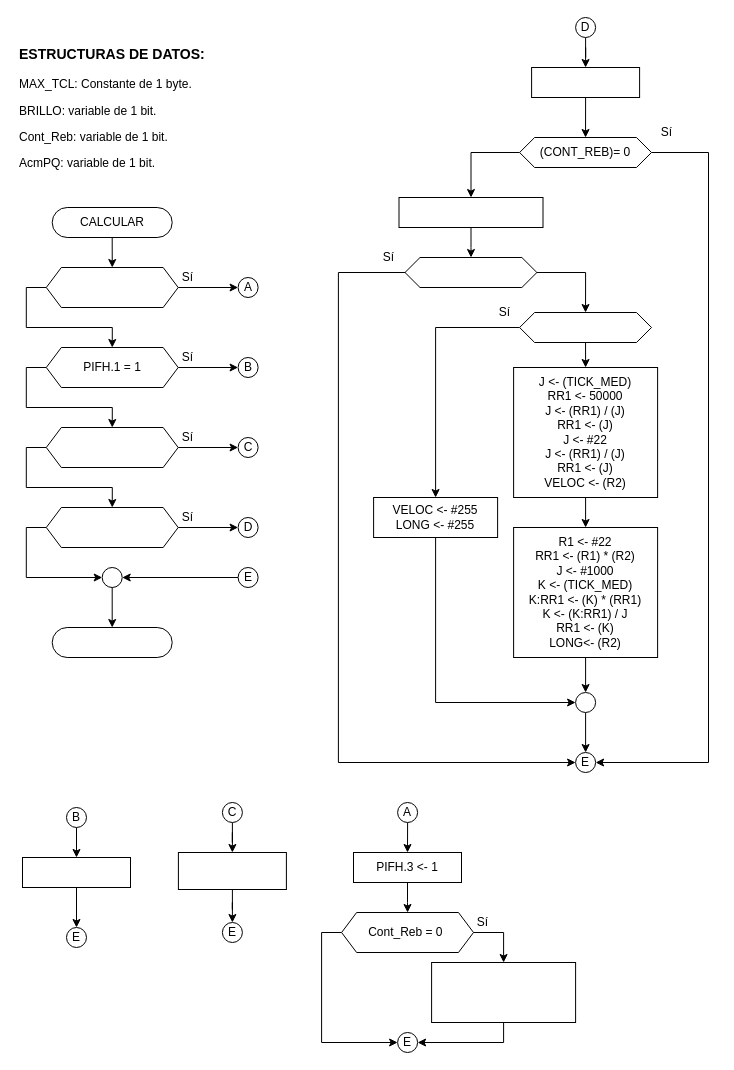
This 734x1070 diagram has some shape labels left out. The shapes that lost their labels are listed below. From the top down, each one's centre as x and y in pixels, then its label:
(x=585, y=82): PIFH.0 <- 1
(x=470, y=212): CONT_REB <- 100
(x=111, y=287): PIFH.0 = 1
(x=470, y=272): (TICK_MED)= 0
(x=585, y=327): (TICK_MED) < 9
(x=111, y=447): PIFH.2 = 1
(x=111, y=527): PIFH.3 = 1
(x=111, y=642): RETORNAR
(x=76, y=872): PIFH.1 <- 1
(x=231, y=871): PIFH.2 <- 1
(x=503, y=992): TICK_MED <- 0 Cont_Reb <- 100 PORTE.2 <- 0
